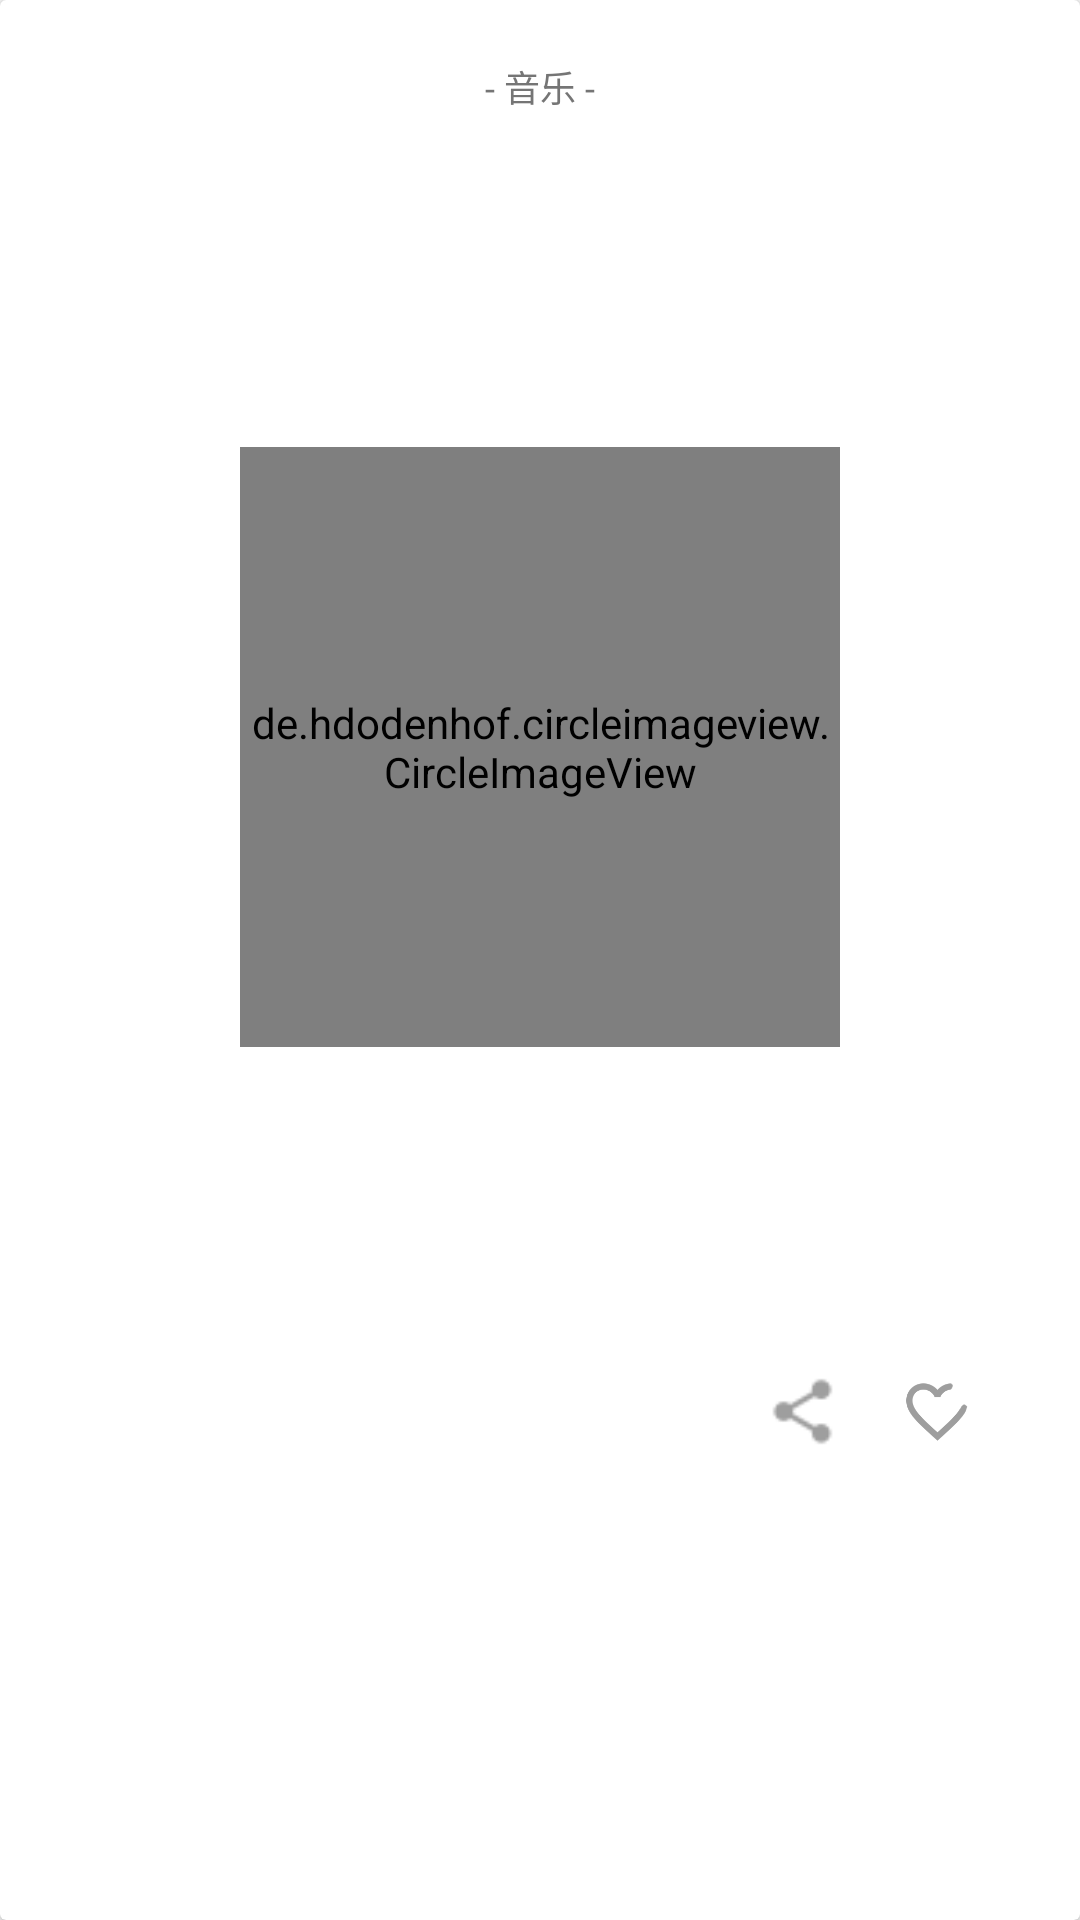

Icons on this 1080px×1920px Android screen, each with the point to tap as [x,y]:
fav border: [936,1412]
share: [802,1411]
